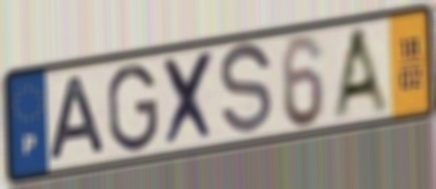6: (278, 31, 328, 132)
A: (329, 22, 395, 122), (46, 72, 108, 166)
G: (104, 61, 161, 156)
S: (217, 38, 275, 142)
X: (160, 47, 218, 151)
